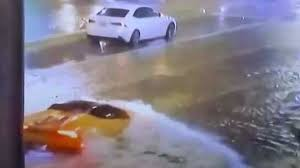Lamborghini: (23, 101, 132, 148)
